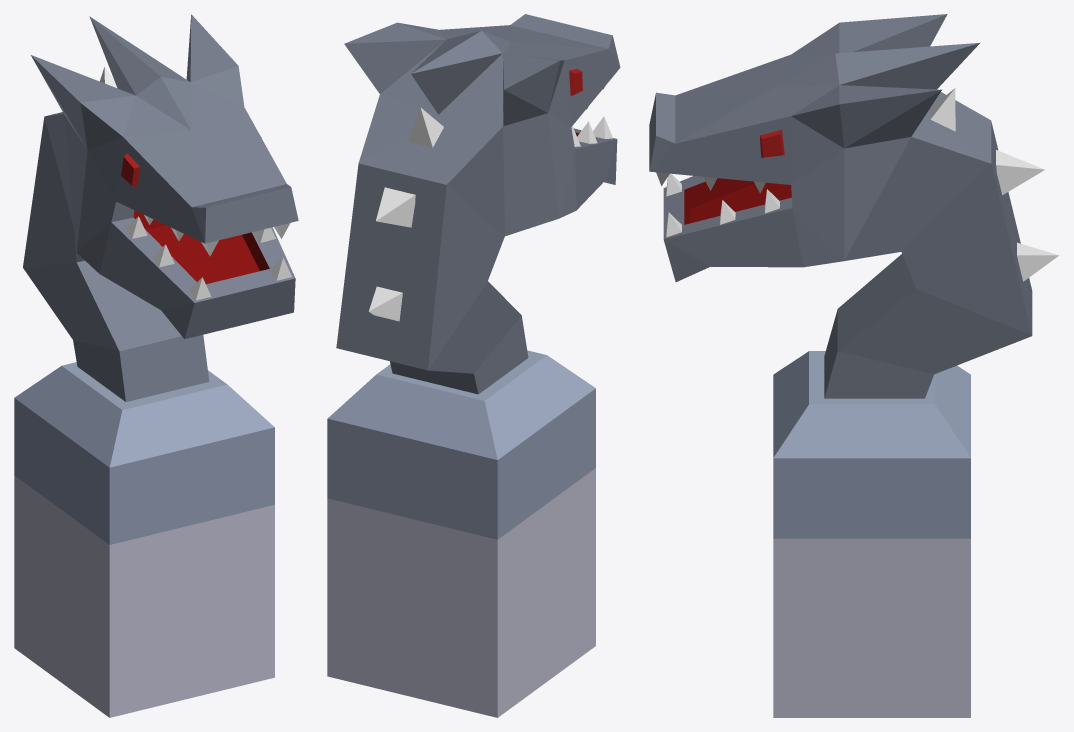
The model's file is Hell Dragon Statue 01.FBX.
3 renders of one model, left to right at view 1: azimuth 30°, elevation 25°; view 2: azimuth 150°, elevation 25°; view 3: azimuth 270°, elevation 25°, orthographic. The views are drawn at different scales.
Parts seen in each view (by area): view 1: Hell Dragon Statue 01; view 2: Hell Dragon Statue 01; view 3: Hell Dragon Statue 01.
Boxes of the visible parts, x1=… form: Hell Dragon Statue 01: x1=14, y1=14, x2=298, y2=717; Hell Dragon Statue 01: x1=327, y1=14, x2=620, y2=717; Hell Dragon Statue 01: x1=649, y1=14, x2=1058, y2=717.
Size of the model in its own units: 200 by 705 by 414.
